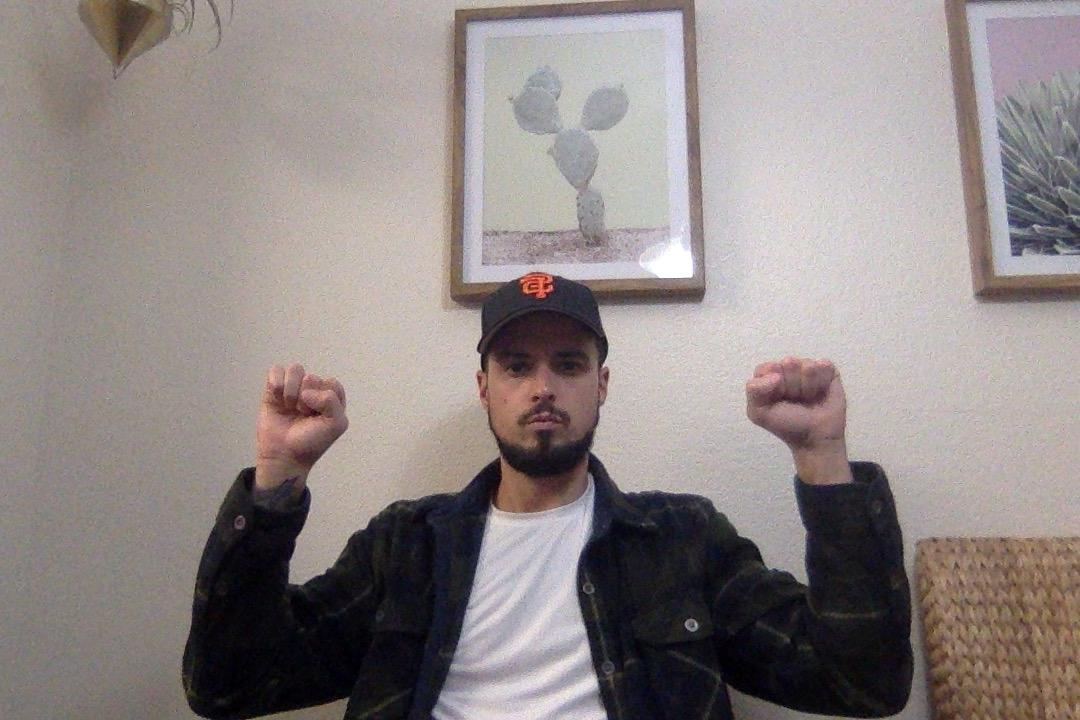Raised-Fist: (734, 347, 855, 471), (247, 352, 362, 481)
